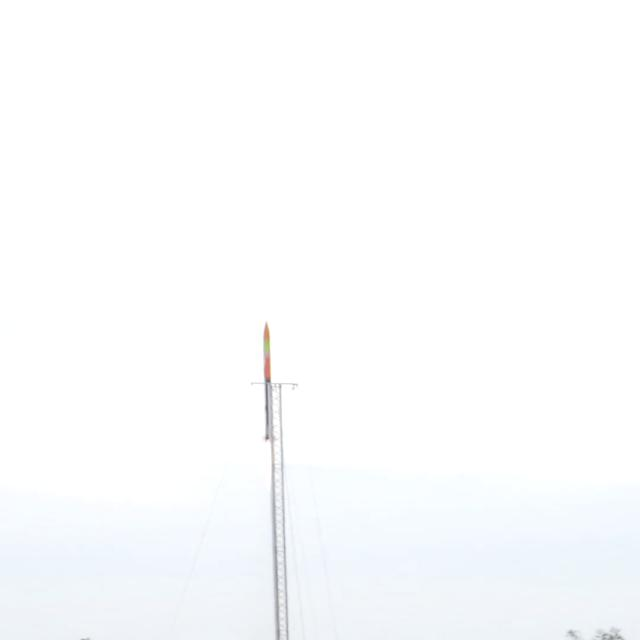Rocket: (262, 321, 278, 441)
